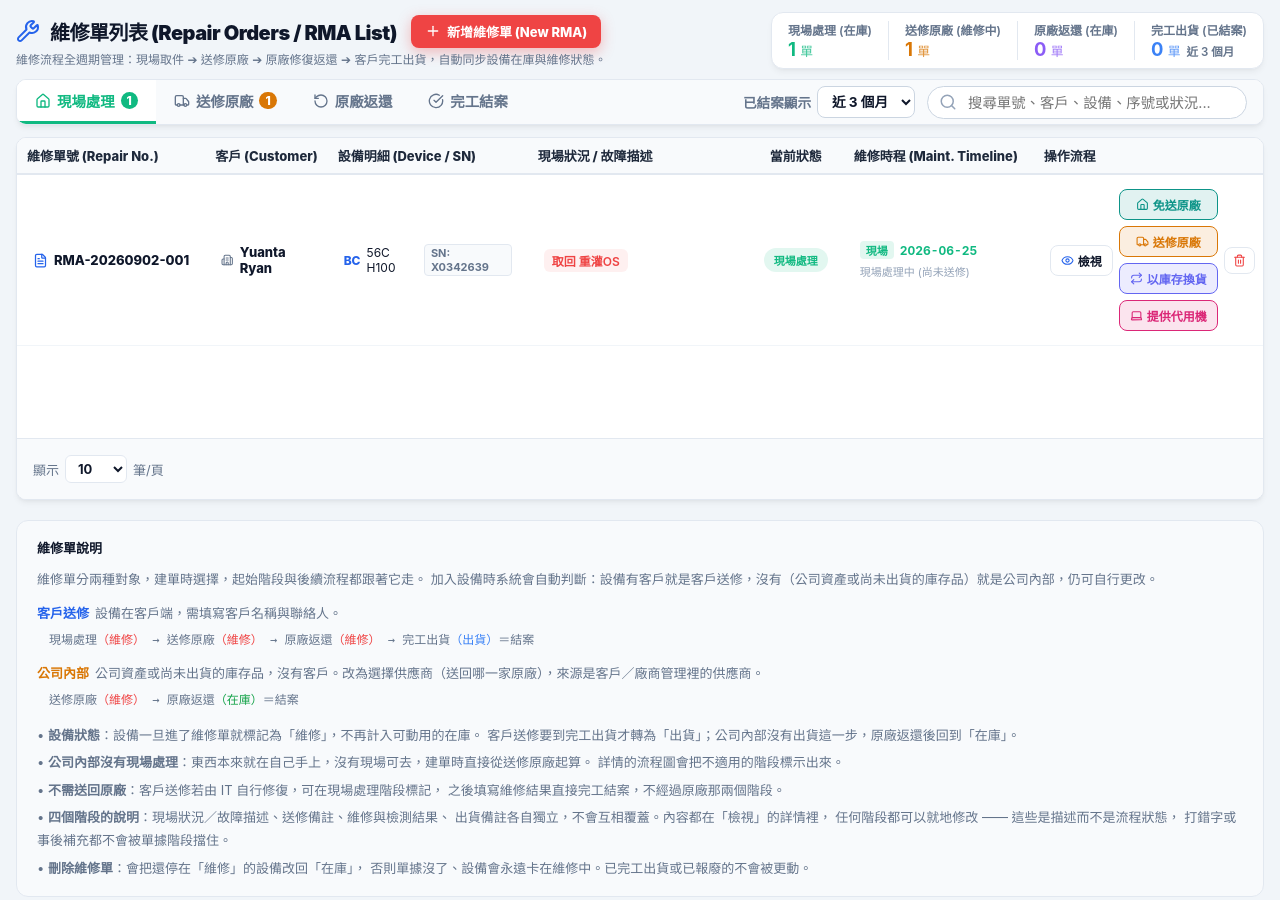
維修單管理系統 (Repair Orders / RMA List) 四階段流程與設備狀態連動測試 › 1. 應正確渲染 RepairList 列表並呈現維修單、客戶與設備序號
The width and height of the screenshot is (1280, 900).
Check: the heading "維修單列表 (Repair Orders / RMA List)" is shown, box top-left (16, 16), bottom-right (397, 46)
Check: the text "RMA-20260902-001" is shown, box top-left (54, 252), bottom-right (189, 268)
Click the button with test id "repair-tab-SENT_OEM".
click(225, 102)  # box top-left (156, 80), bottom-right (295, 124)
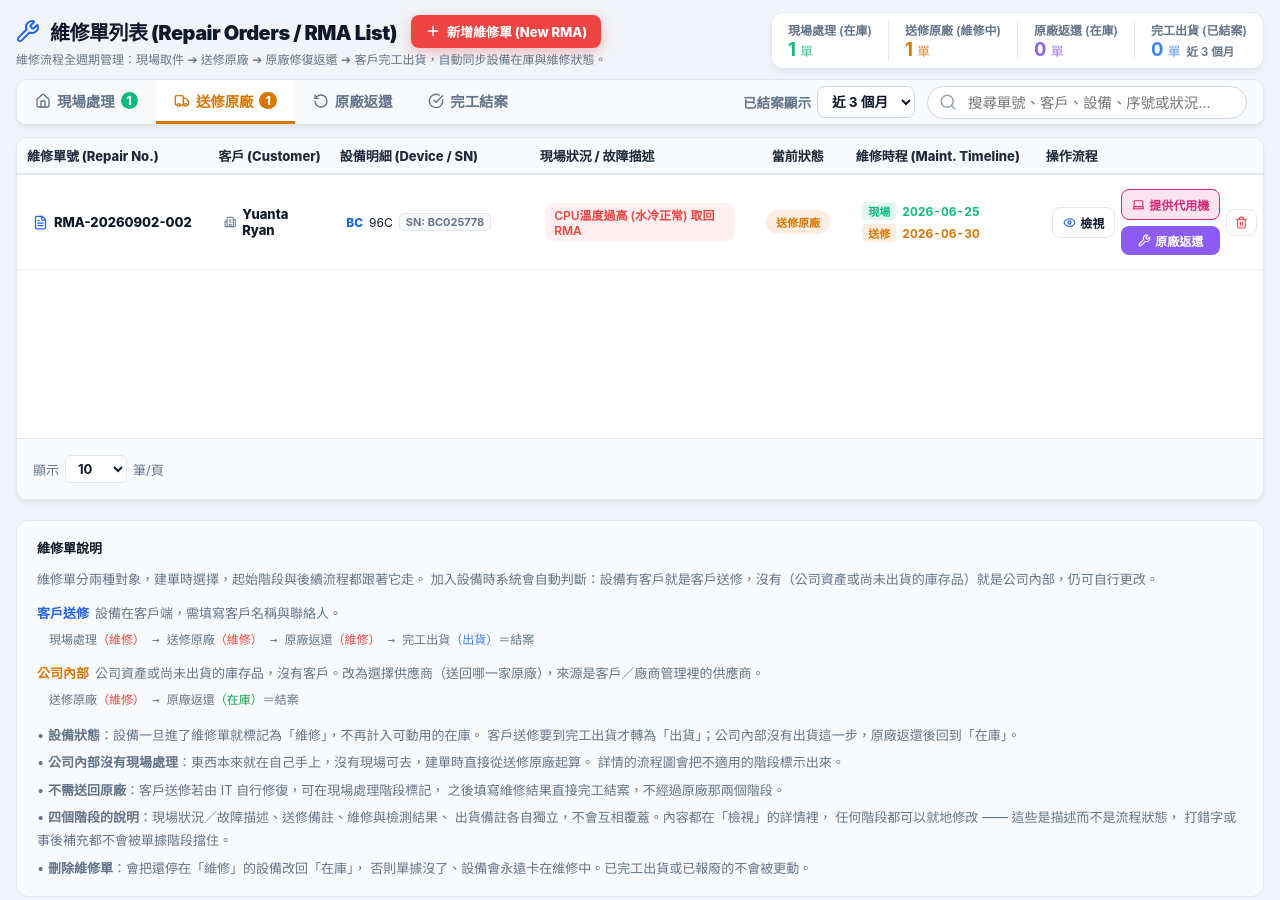
Check: the text "RMA-20260902-002" is shown, box top-left (54, 214), bottom-right (192, 230)
Check: the text "SN: BC025778" is shown, box top-left (399, 213), bottom-right (491, 231)
